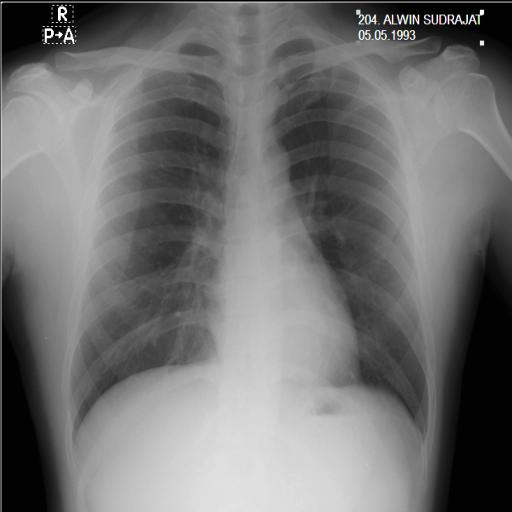normal: (63, 16, 440, 464)
